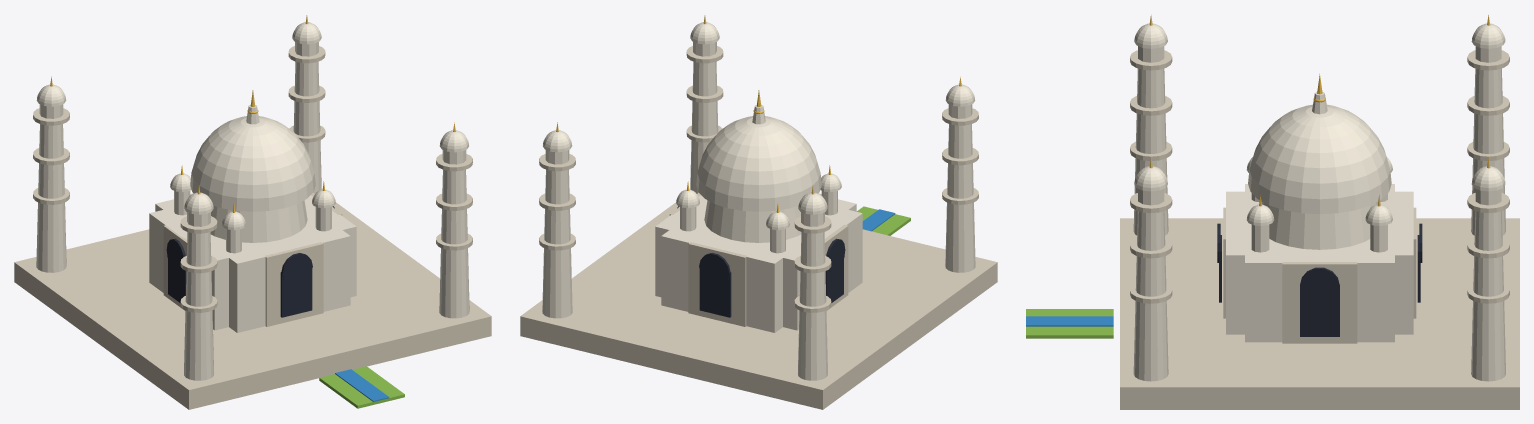
File: taj-mahal.glb
3 renders of one model, left to right at view 1: azimuth 30°, elevation 25°; view 2: azimuth 150°, elevation 25°; view 3: azimuth 270°, elevation 25°, orthographic. The views are drawn at different scales.
Visible parts, largest first — view 1: taj-mahal; view 2: taj-mahal; view 3: taj-mahal.
Part boxes in pixels (bbox=[...]): taj-mahal: bbox=[14, 15, 491, 409]; taj-mahal: bbox=[520, 15, 997, 409]; taj-mahal: bbox=[1026, 14, 1519, 409].
Size of the model in its own units: 5.75 by 4 by 7.1.
